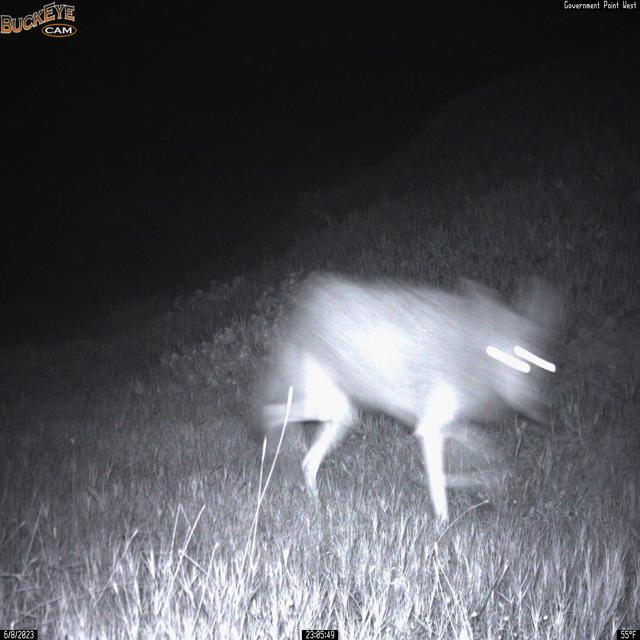coyote: (248, 267, 564, 532)
